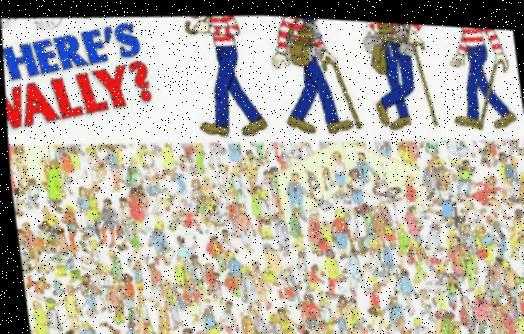waldo: (49, 227, 62, 237)
